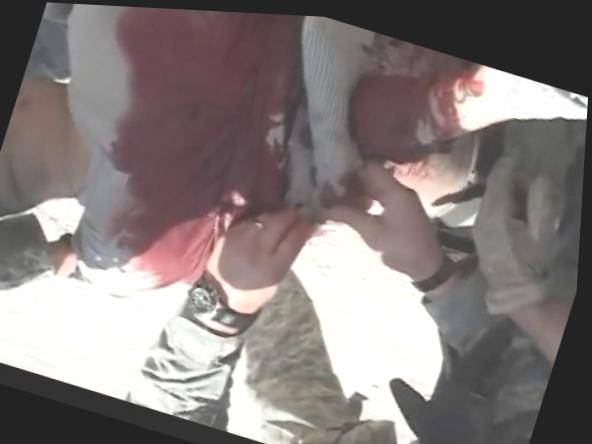Fire: (110, 5, 302, 284), (349, 28, 492, 159)
